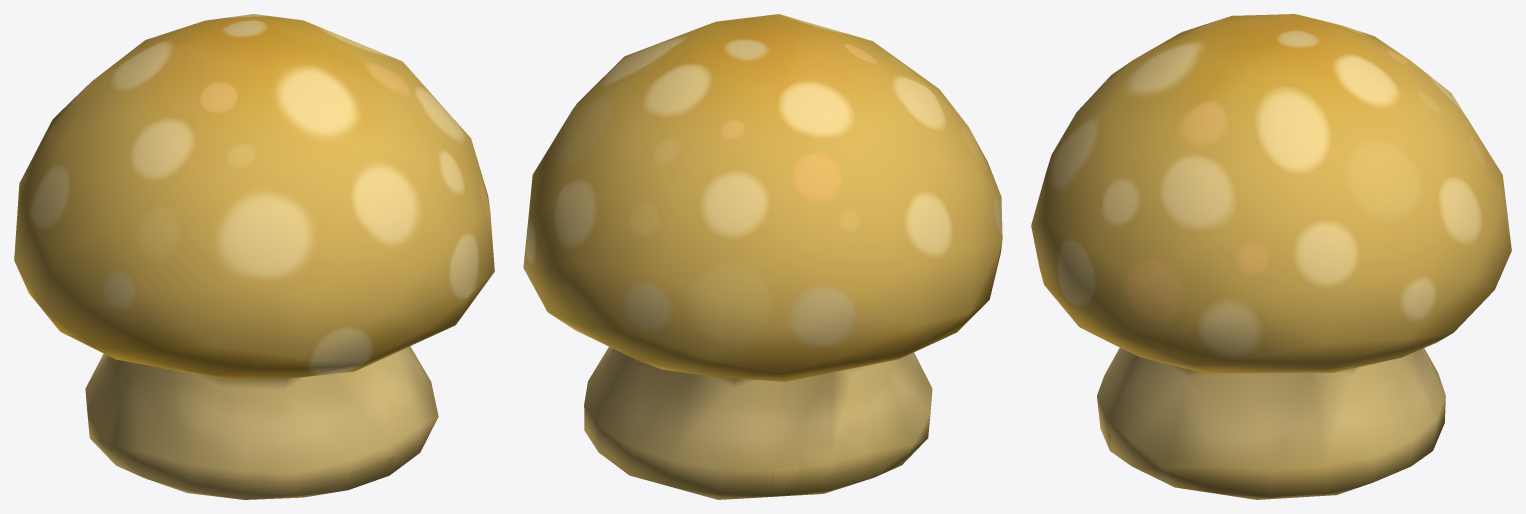
The model's file is Yellow.fbx.
The picture shows the model from 3 angles, left to right: view 1: azimuth 30°, elevation 25°; view 2: azimuth 150°, elevation 25°; view 3: azimuth 270°, elevation 25°; orthographic projection.
Parts seen in each view (by area): view 1: Icosphere; view 2: Icosphere; view 3: Icosphere.
Part boxes in pixels (box(x1,y1,x2,y2)): Icosphere: box(14, 14, 494, 499); Icosphere: box(523, 14, 1002, 499); Icosphere: box(1031, 14, 1511, 499).
Bounding box in the file's own units: 450 × 420 × 454.
2 materials, 2 textured.
